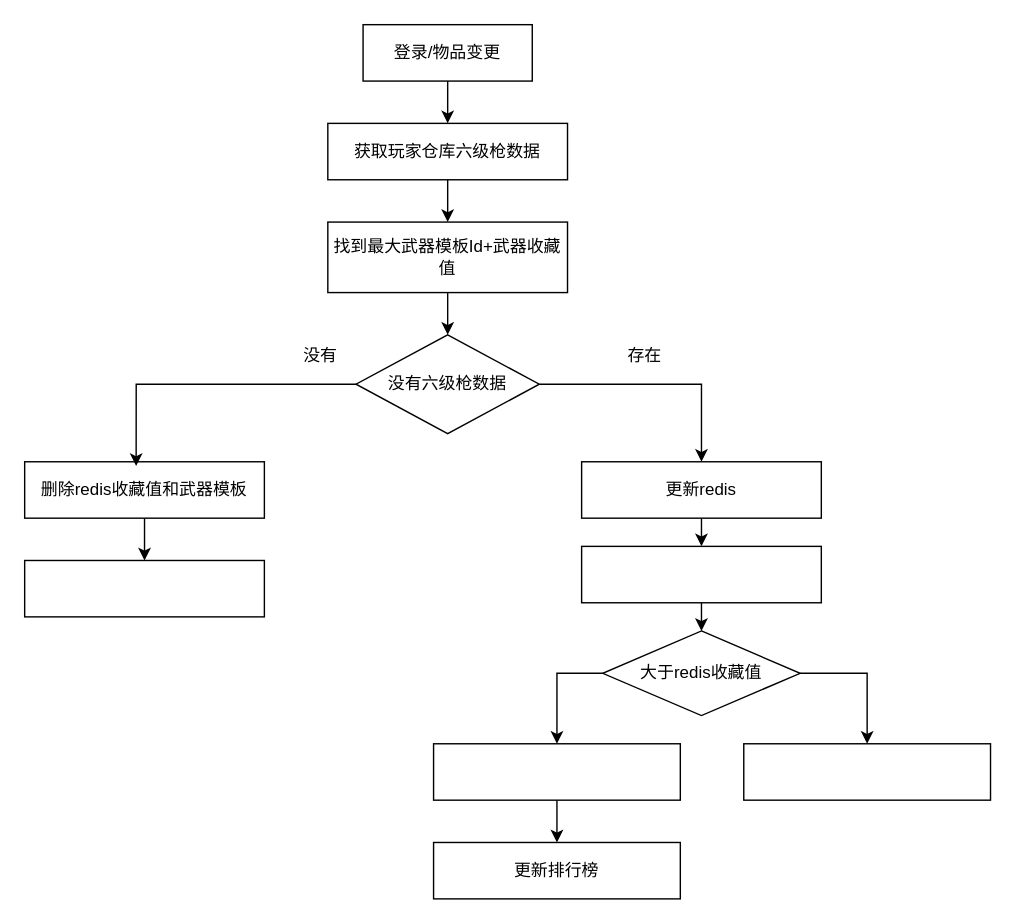
Image size: 1015x924. Some labels were removed from this diagram. Each missing label, with the centre of its shape:
"redis只存储武器的收藏值" goes at (x=700, y=574).
"不更新" goes at (x=866, y=771).
"更新武器模板Id + 收藏值" goes at (x=556, y=771).
"移除排行榜" goes at (x=143, y=588).
